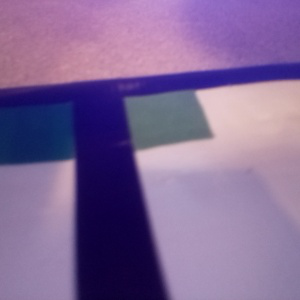bottom_left: (1, 87, 122, 164)
bottom_right: (76, 80, 214, 151)
